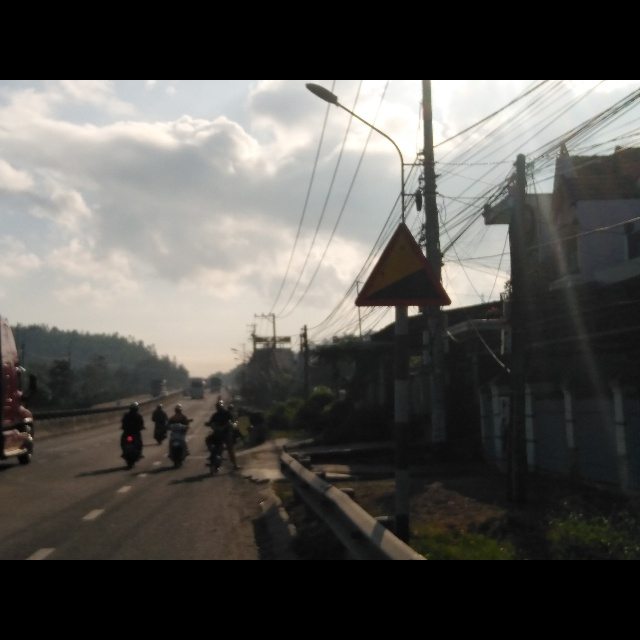Dốc lên nguy hiểm: (351, 218, 450, 308)
